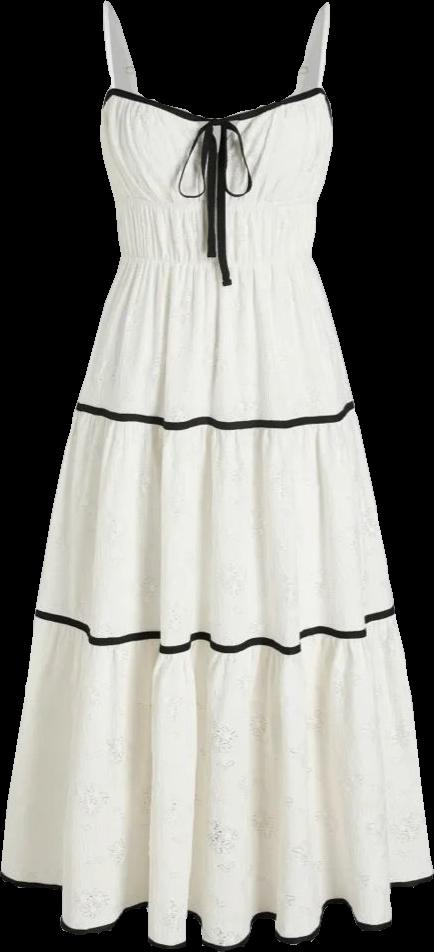Bodice: (100, 0, 332, 265)
Hemline: (0, 866, 433, 951)
Neckline: (103, 0, 331, 126)
Skirt: (1, 246, 433, 946)
Waistline: (116, 243, 318, 271)
